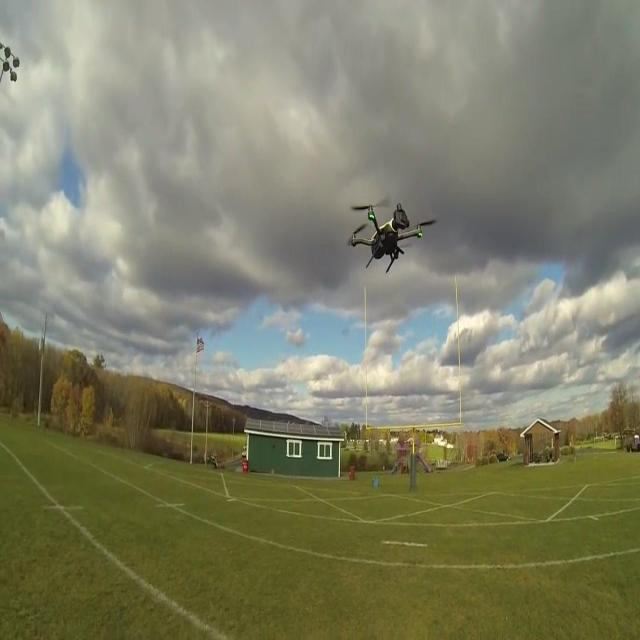drone: (346, 200, 432, 278)
